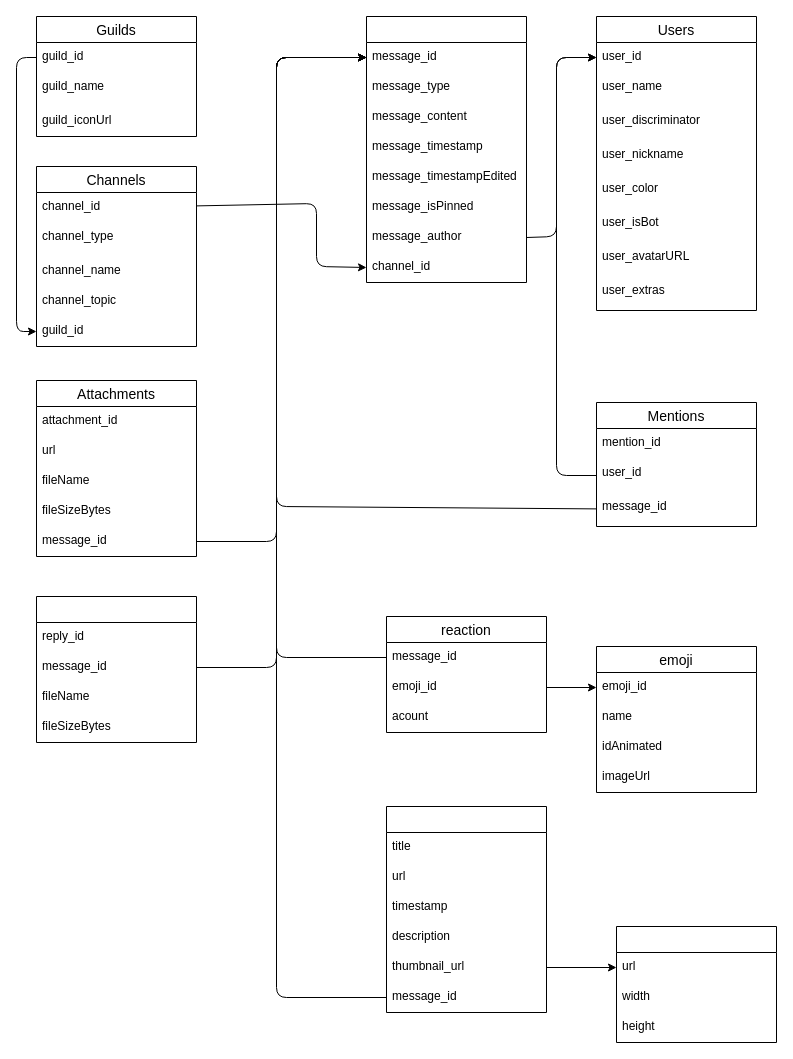
Image size: 793x1059. Some labels were removed from this diagram. The shapes that lost their labels are listed below. From the top down, each one's box as (x1, y1, x2, y2) in pixels, then its label:
(366, 16, 526, 282): Messages
(36, 596, 196, 742): Replies
(386, 806, 546, 1012): Embeds
(616, 926, 776, 1042): Thumbnail
